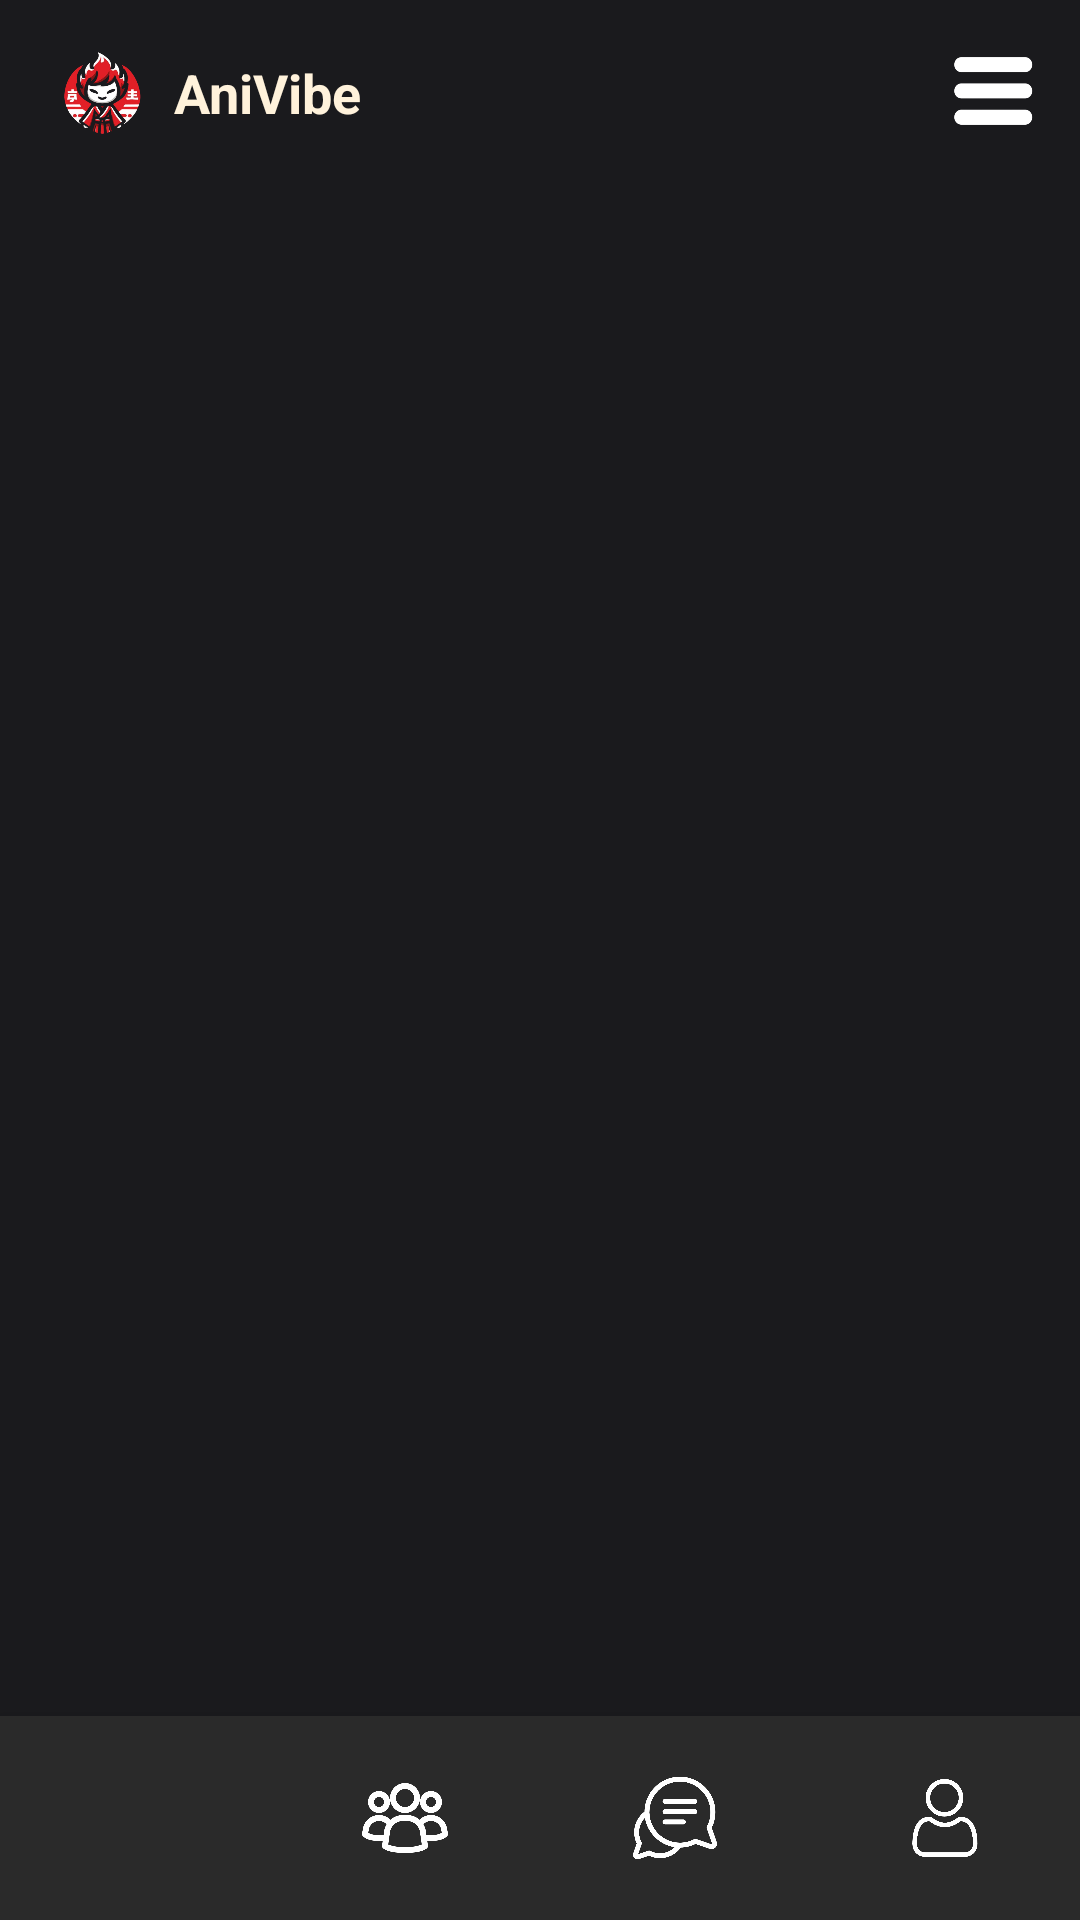

Where to tap for icons on this 1080px x 1920px app screen, as [x,y]:
Chat: [675,1818]
Profile: [945,1818]
